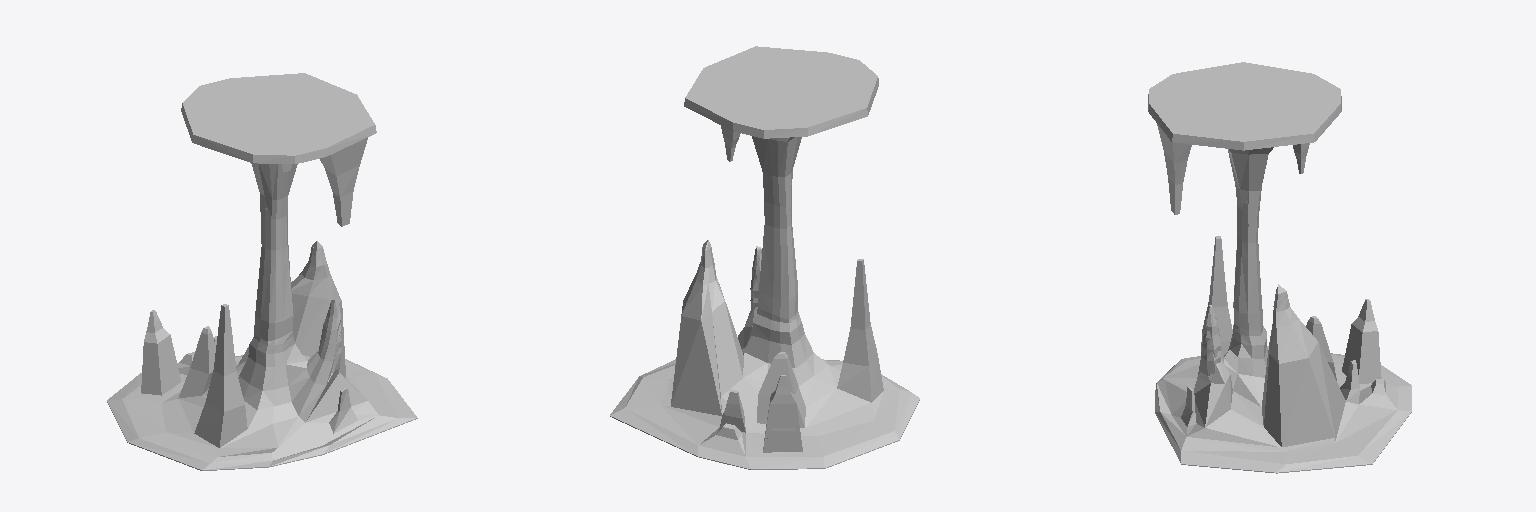
The model's file is stalactite.obj.
3 views of the same model, side by side, from view 1: azimuth 30°, elevation 25°; view 2: azimuth 150°, elevation 25°; view 3: azimuth 270°, elevation 25° (orthographic).
Parts seen in each view (by area): view 1: pCube1, pCube2; view 2: pCube1, pCube2; view 3: pCube1, pCube2.
Boxes of the visible parts, <box> form: pCube1: <box>107,73,417,470</box>; pCube2: <box>141,207,345,395</box>; pCube1: <box>610,46,919,469</box>; pCube2: <box>671,183,802,450</box>; pCube1: <box>1148,62,1411,473</box>; pCube2: <box>1198,199,1381,446</box>.
Bounding box in the file's own units: 2.75 × 3.12 × 2.41.